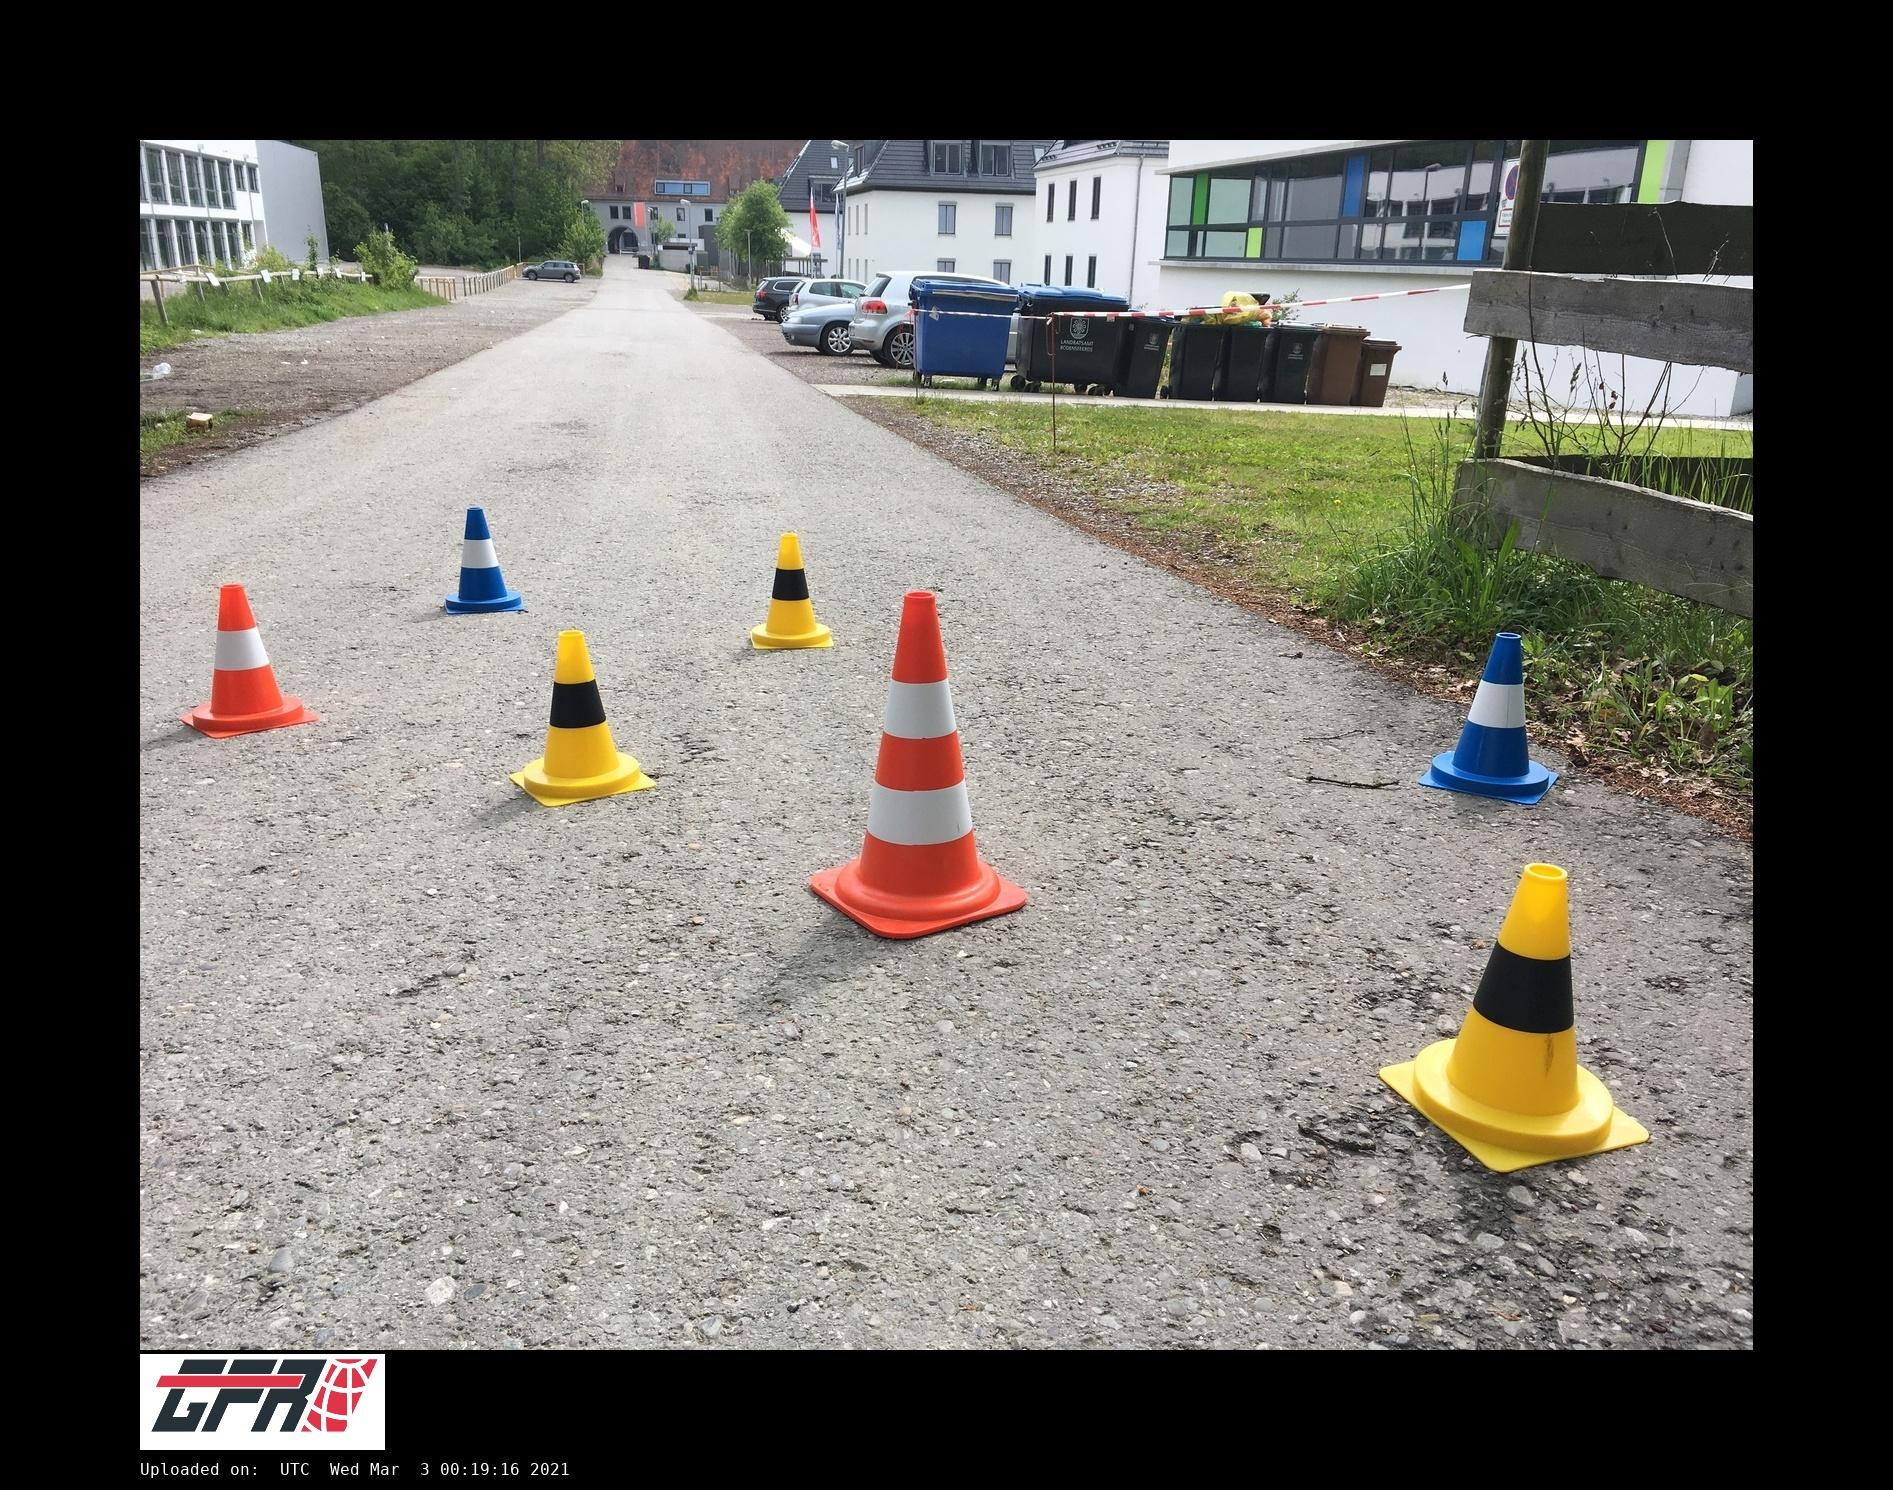blue_cone: (1417, 631, 1560, 805), (446, 505, 525, 614)
large_orange_cone: (810, 590, 1026, 940)
orange_cone: (181, 585, 313, 737)
yellow_cone: (1378, 862, 1649, 1170), (509, 630, 658, 806), (748, 533, 833, 648)
